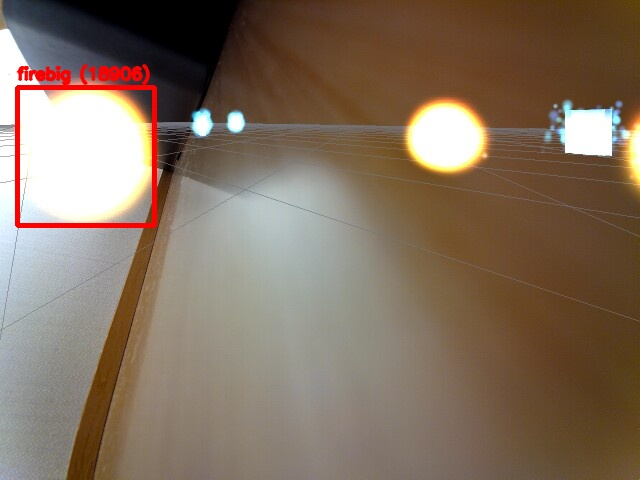firebig: (17, 87, 154, 225)
